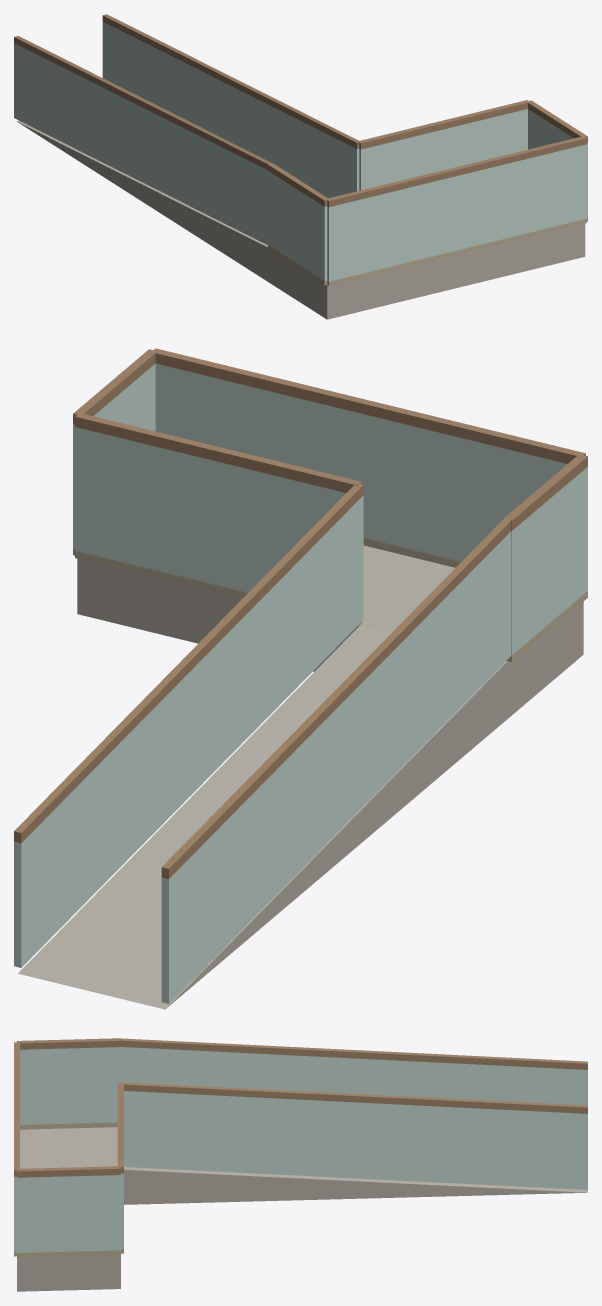
The model's file is CONVERSATION_795_r001.glb.
3 views of the same model, one above another, from view 1: azimuth 30°, elevation 25°; view 2: azimuth 150°, elevation 25°; view 3: azimuth 270°, elevation 25° (orthographic). The views are drawn at different scales.
Visible parts, largest first — view 1: G2R_795_Fore_Infill, G2R_795_ConversationOverlook, G2R_795_RearClosed_Infill, G2R_795_ContinuousRearRamp, G2R_795_Inner_Infill, G2R_795_Fore_Handrail, G2R_795_Ramp_L_guard_1, G2R_795_Ramp_L_guard_3, G2R_795_Ramp_L_guard_4, G2R_795_Ramp_L_guard_6, G2R_795_Ramp_L_guard_8, G2R_795_Ramp_L_guard_9 (+23 smaller); view 2: G2R_795_Fore_Infill, G2R_795_ContinuousRearRamp, G2R_795_RearClosed_Infill, G2R_795_ConversationOverlook, G2R_795_Inner_Infill, G2R_795_Fore_Handrail, G2R_795_Ramp_L_guard_11, G2R_795_Ramp_R_guard_11, G2R_795_RearClosed_Handrail, G2R_795_Ramp_R_guard_1, G2R_795_Ramp_R_guard_3, G2R_795_Ramp_L_guard_0 (+23 smaller); view 3: G2R_795_ContinuousRearRamp, G2R_795_Outer_Infill, G2R_795_Inner_Infill, G2R_795_ConversationOverlook, G2R_795_Ramp_R_guard_2, G2R_795_Ramp_R_guard_7, G2R_795_Ramp_R_guard_5, G2R_795_Ramp_R_guard_1, G2R_795_Ramp_R_guard_3, G2R_795_Ramp_R_guard_4, G2R_795_Ramp_R_guard_6, G2R_795_Ramp_R_guard_8 (+45 smaller).
Part boxes in pixels (x1,y1,x2,y2): G2R_795_Fore_Infill: (327, 144, 586, 281); G2R_795_ConversationOverlook: (270, 223, 585, 319); G2R_795_RearClosed_Infill: (359, 109, 527, 190); G2R_795_ContinuousRearRamp: (16, 120, 270, 283); G2R_795_Inner_Infill: (268, 171, 327, 280); G2R_795_Fore_Handrail: (326, 136, 586, 207); G2R_795_Ramp_L_guard_1: (226, 149, 247, 234); G2R_795_Ramp_L_guard_3: (183, 128, 204, 213); G2R_795_Ramp_L_guard_4: (162, 117, 183, 202); G2R_795_Ramp_L_guard_6: (120, 96, 141, 181); G2R_795_Ramp_L_guard_8: (77, 75, 98, 160); G2R_795_Ramp_L_guard_9: (56, 64, 77, 149); G2R_795_Fore_Infill: (155, 363, 567, 561); G2R_795_ContinuousRearRamp: (18, 625, 507, 1009); G2R_795_RearClosed_Infill: (75, 427, 345, 593); G2R_795_ConversationOverlook: (77, 545, 583, 718); G2R_795_Inner_Infill: (511, 467, 587, 655); G2R_795_Fore_Handrail: (152, 348, 585, 463); G2R_795_Ramp_L_guard_11: (161, 851, 197, 1003); G2R_795_Ramp_R_guard_11: (14, 814, 49, 967); G2R_795_RearClosed_Handrail: (75, 413, 362, 492); G2R_795_Ramp_R_guard_1: (306, 524, 335, 677); G2R_795_Ramp_R_guard_3: (249, 582, 278, 735); G2R_795_Ramp_L_guard_0: (482, 531, 511, 684); G2R_795_ContinuousRearRamp: (124, 1167, 587, 1204); G2R_795_Outer_Infill: (17, 1175, 120, 1253); G2R_795_Inner_Infill: (20, 1047, 120, 1125); G2R_795_ConversationOverlook: (17, 1127, 120, 1291); G2R_795_Ramp_R_guard_2: (198, 1094, 237, 1172); G2R_795_Ramp_R_guard_7: (393, 1104, 432, 1182); G2R_795_Ramp_R_guard_5: (315, 1100, 354, 1178); G2R_795_Ramp_R_guard_1: (159, 1092, 198, 1170); G2R_795_Ramp_R_guard_3: (237, 1096, 276, 1174); G2R_795_Ramp_R_guard_4: (276, 1098, 315, 1176); G2R_795_Ramp_R_guard_6: (354, 1102, 393, 1180); G2R_795_Ramp_R_guard_8: (432, 1106, 471, 1183).
Size of the model in its own units: 3.97 by 1.55 by 6.63.
